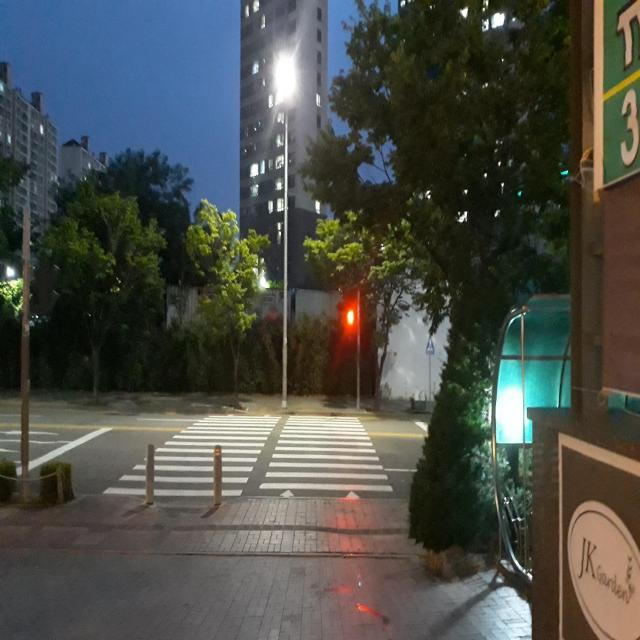빨간불: (346, 293, 356, 340)
횡단보도: (100, 414, 394, 500)
